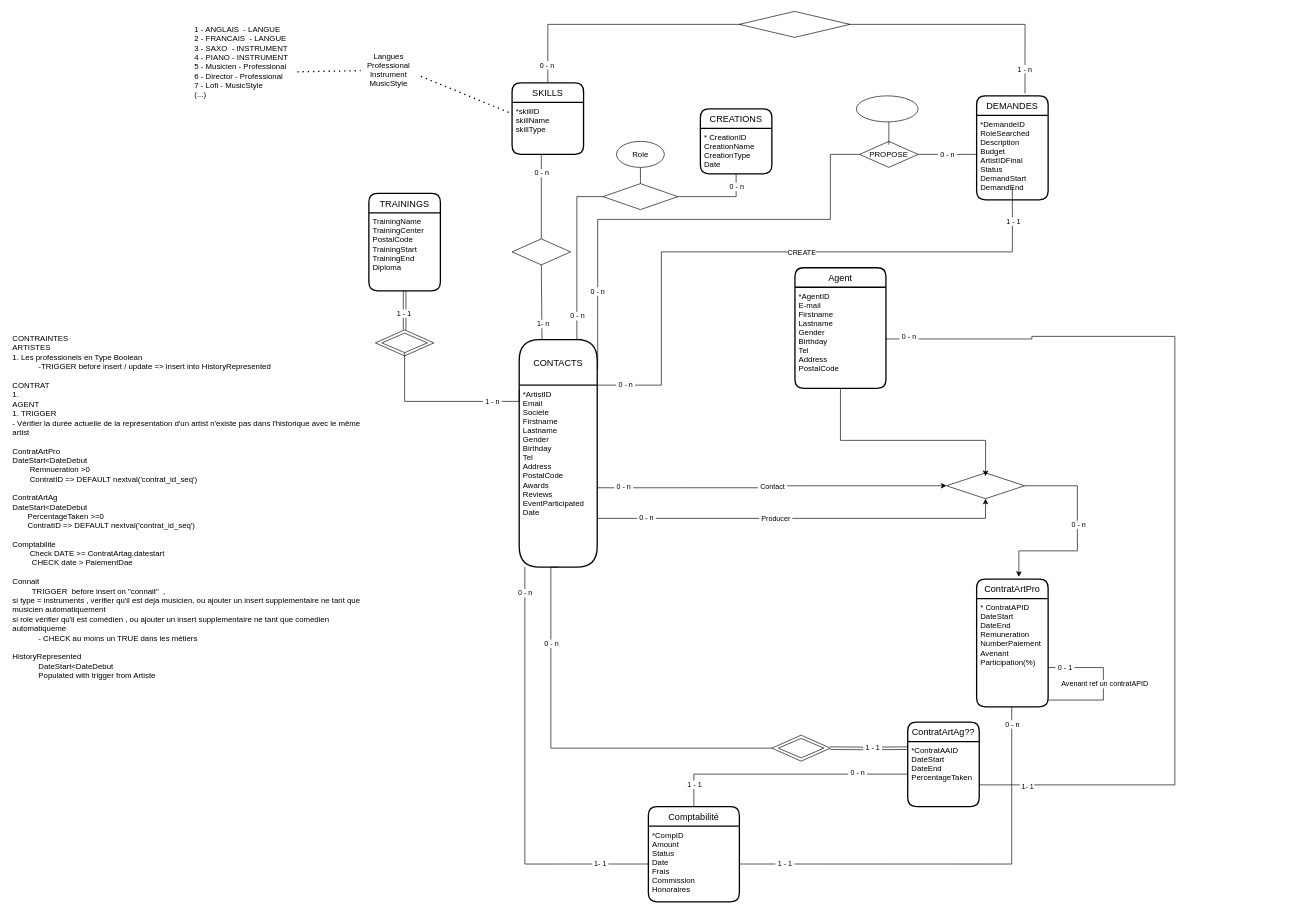
Image size: 1296x914. Some labels were removed from this diagram. The shapes that lost their labels are listed below. From the top down, each one's centre as x and y in pixels, then its label:
point 794,24: MULTIPLE-SKILLS
point 887,108: Status DateProposed
point 640,196: PARTICIPATE
point 541,251: KNOWS
point 985,485: RELATION???
